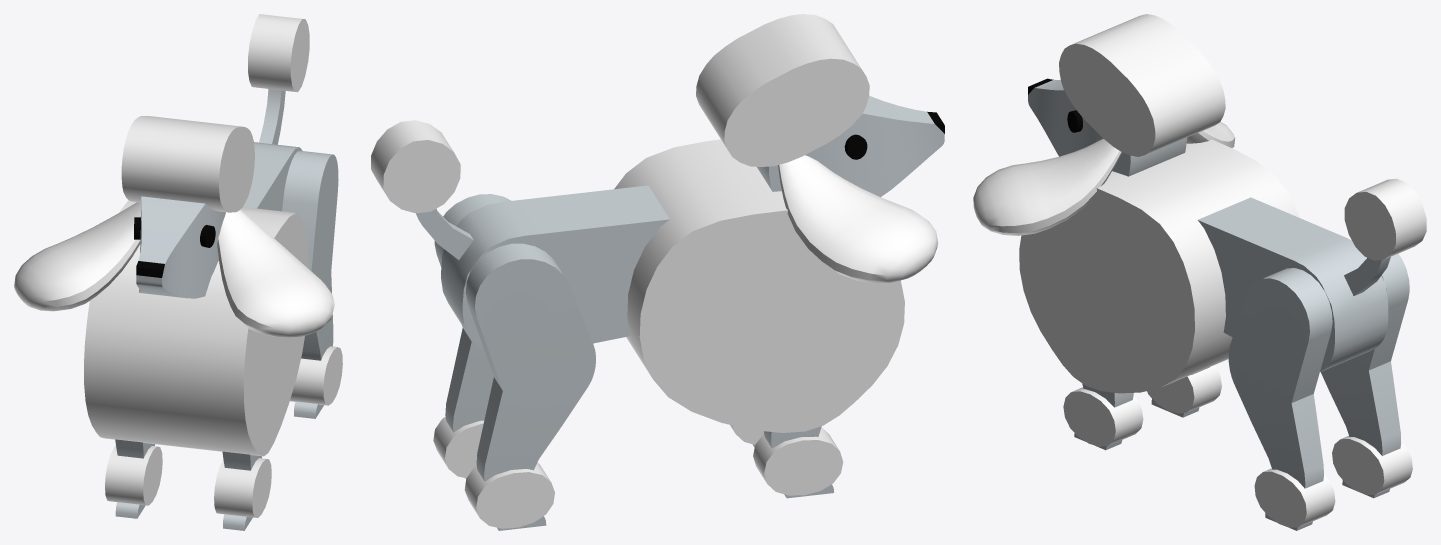
Rendered from poodle.fbx.
The picture shows the model from 3 angles, left to right: view 1: azimuth 30°, elevation 25°; view 2: azimuth 150°, elevation 25°; view 3: azimuth 270°, elevation 25°; orthographic projection. The views are drawn at different scales.
Parts seen in each view (by area): view 1: Cube.6178; view 2: Cube.6178; view 3: Cube.6178.
Part boxes in pixels (box(x1,y1,x2,y2)): Cube.6178: box(14, 14, 342, 530); Cube.6178: box(371, 14, 944, 530); Cube.6178: box(973, 14, 1426, 530).
Size of the model in its own units: 213 by 200 by 213.
1 material, 1 textured.
